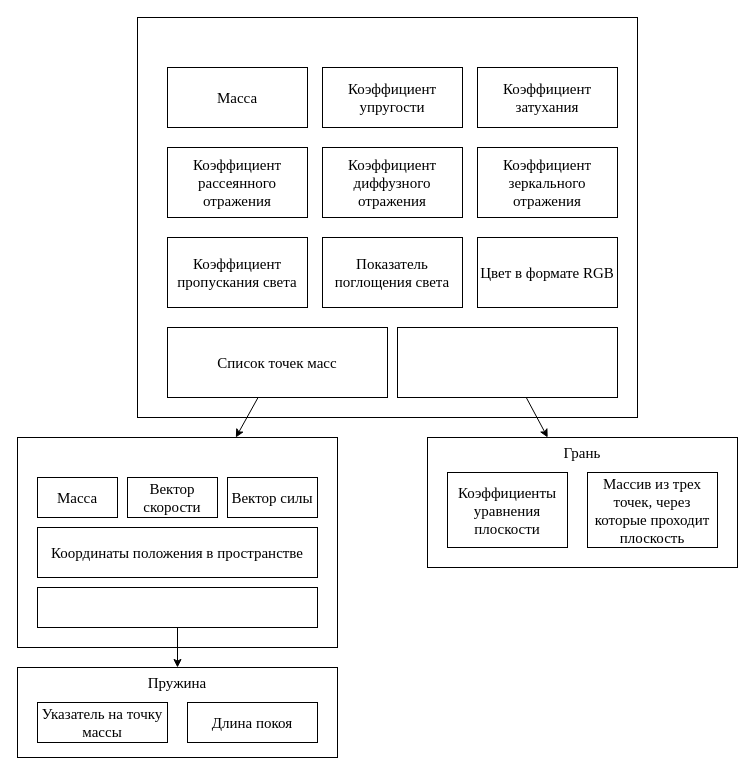
The diagram is 755 pixels wide and 775 high, and some of its shapes have lost their labels. The shapes that lost their labels are listed below. From the top down, each one's box as (x1, y1, x2, y2) in pixels, then its label:
(136, 16, 638, 418): Слайм
(396, 326, 618, 398): Список граней
(16, 436, 338, 648): Точка массы
(36, 586, 318, 628): Список пружин
